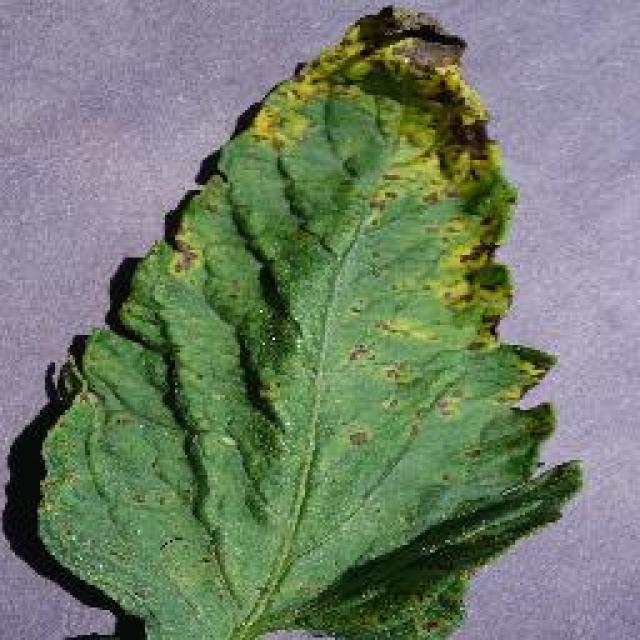Tomato Septoria spot leaf: (32, 2, 582, 640)
